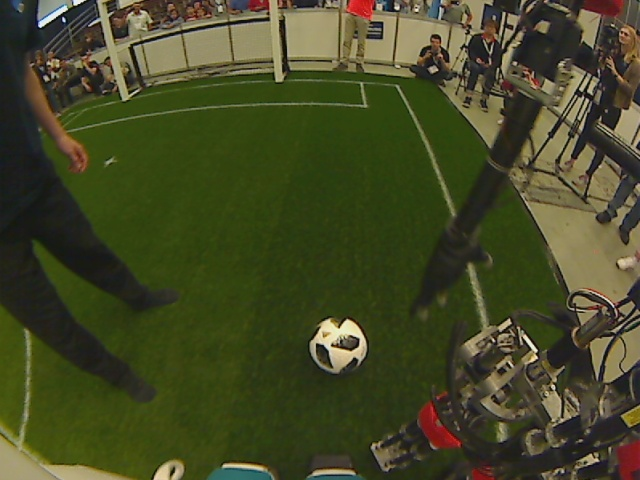ball: (309, 313, 369, 376)
